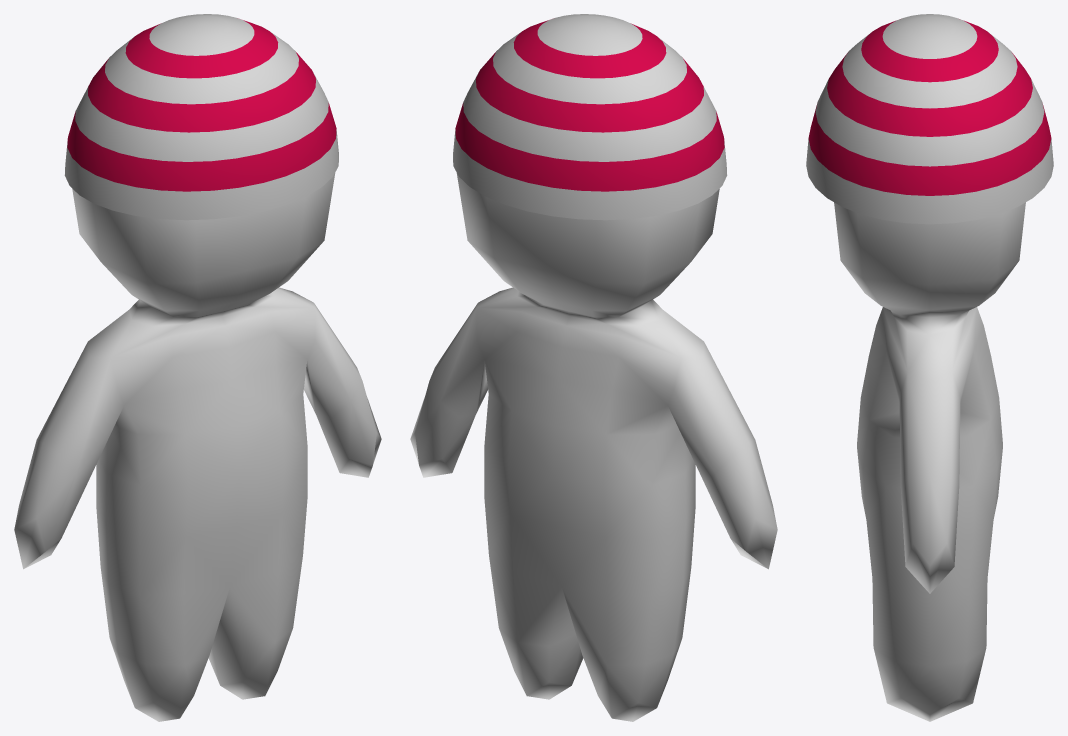
Rendered from unit_stripe_red.fbx.
3 views of the same model, side by side, from view 1: azimuth 30°, elevation 25°; view 2: azimuth 150°, elevation 25°; view 3: azimuth 270°, elevation 25° (orthographic).
Visible parts, largest first — view 1: 立方体, 球; view 2: 立方体, 球; view 3: 立方体, 球.
Part boxes in pixels (x1,y1,x2,y2): 立方体: (14, 173, 381, 721); 球: (64, 14, 338, 220); 立方体: (410, 173, 777, 721); 球: (453, 14, 727, 220); 立方体: (834, 202, 1025, 721); 球: (806, 14, 1053, 224).
Size of the model in its own units: 330 by 589 by 195.
